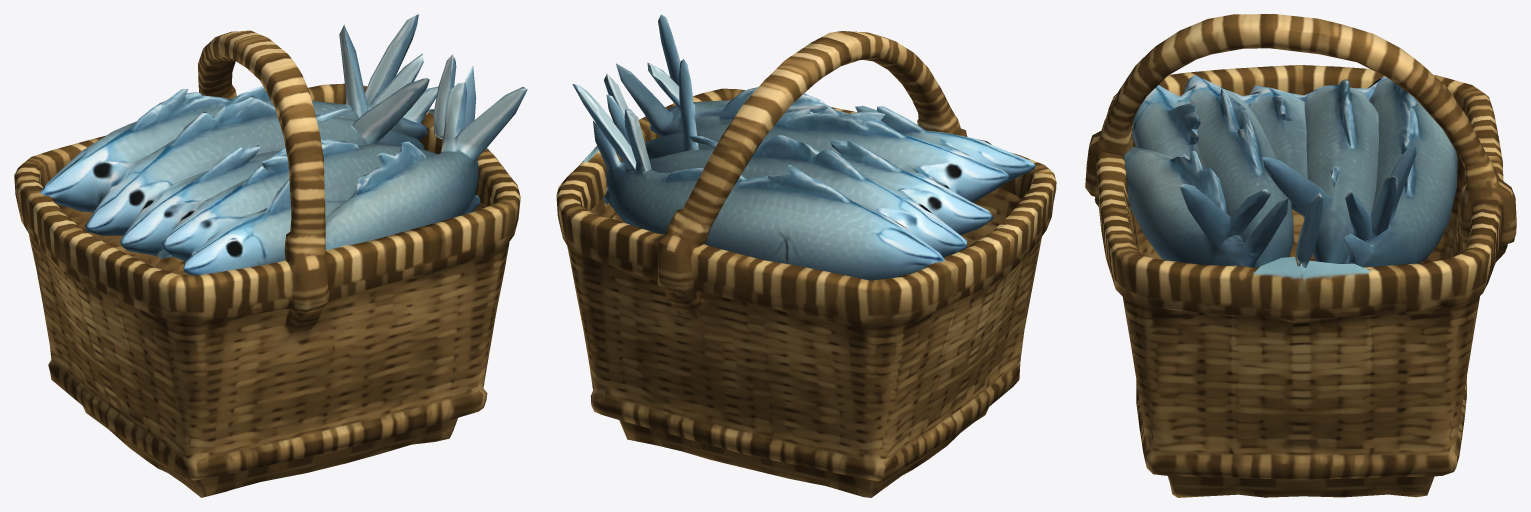
File: fish_basket.glb
3 views of the same model, side by side, from view 1: azimuth 30°, elevation 25°; view 2: azimuth 150°, elevation 25°; view 3: azimuth 270°, elevation 25° (orthographic). The views are drawn at different scales.
Parts seen in each view (by area): view 1: world; view 2: world; view 3: world.
Boxes of the visible parts, box(x1,y1,x2,y2) form: world: box(14, 14, 527, 497); world: box(556, 14, 1056, 497); world: box(1085, 14, 1516, 497).
Bounding box in the file's own units: 1 × 0.8867 × 0.8441.
1 material, 1 textured.
